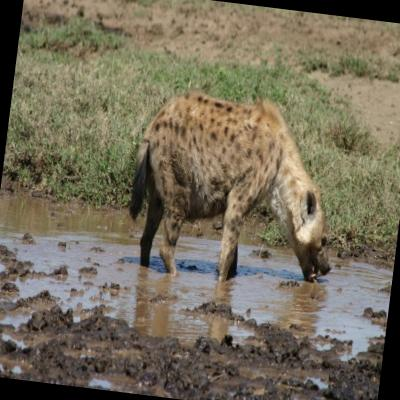hyenas: (100, 55, 388, 336)
